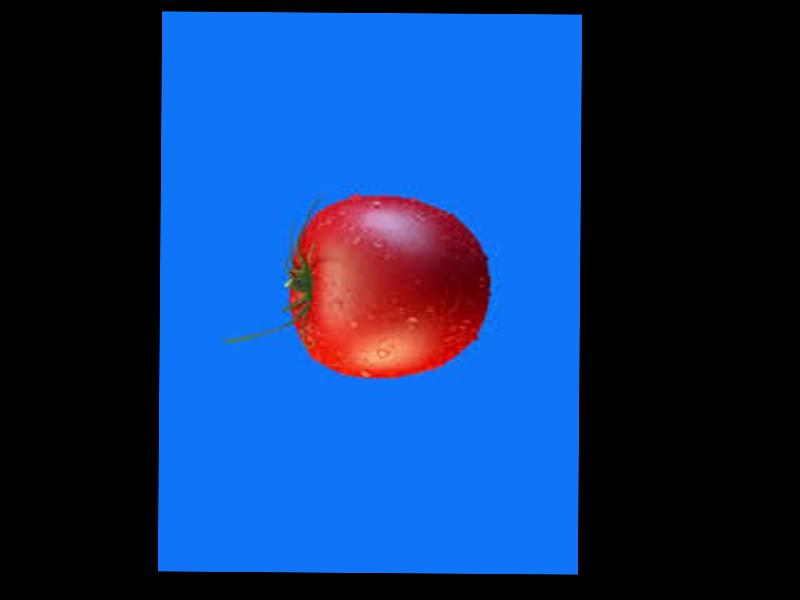Tomato: (287, 193, 491, 379)
